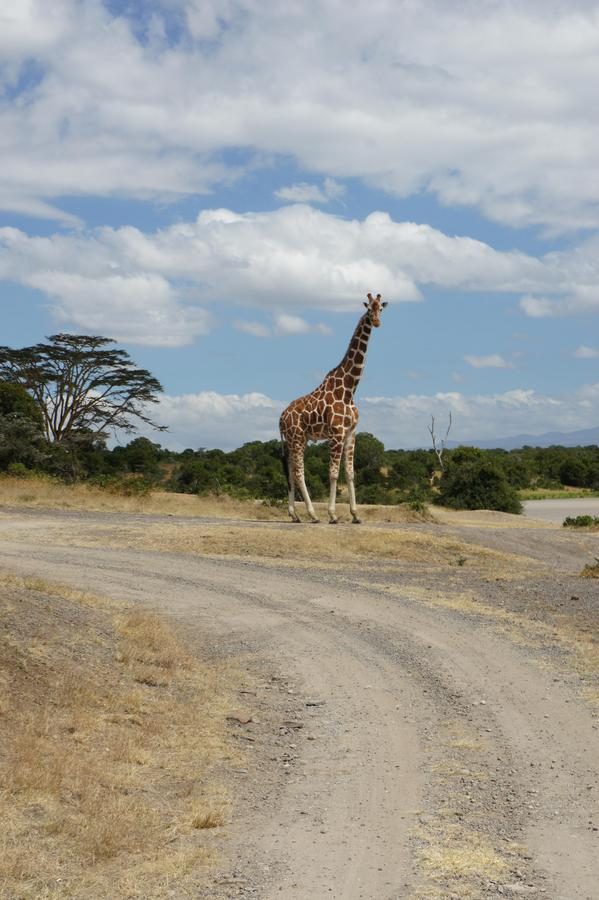giraffe: (264, 287, 391, 531)
